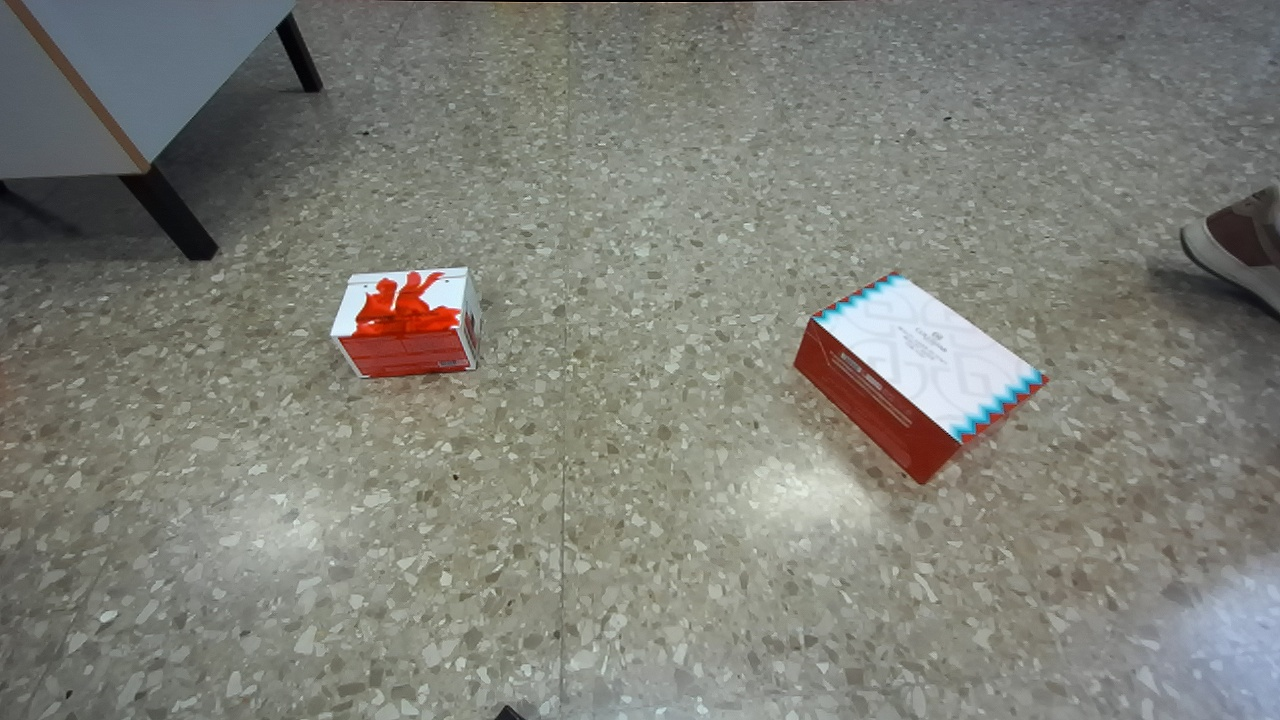caja_busbar: (795, 272, 1047, 483)
caja_potencia: (331, 267, 481, 377)
